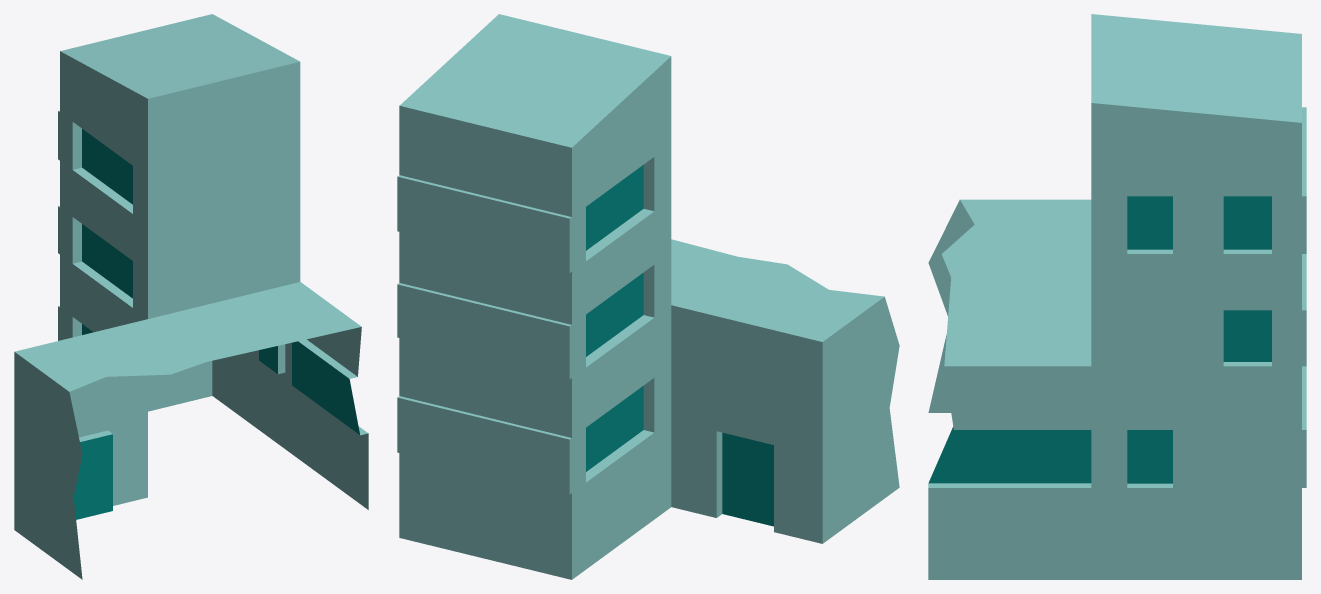
The model's file is ruines1.FBX.
3 renders of one model, left to right at view 1: azimuth 30°, elevation 25°; view 2: azimuth 150°, elevation 25°; view 3: azimuth 270°, elevation 25°, orthographic. The views are drawn at different scales.
Visible parts, largest first — view 1: Box001; view 2: Box001; view 3: Box001.
Part boxes in pixels (x1,y1,x2,y2): Box001: (14, 14, 368, 579); Box001: (397, 14, 899, 579); Box001: (928, 14, 1306, 579).
Size of the model in its own units: 73.89 by 98.43 by 70.71.
